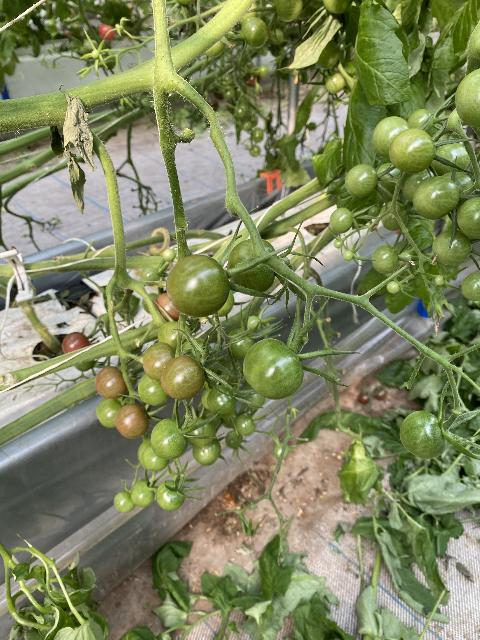l_fully_ripened: (62, 332, 91, 355)
l_green: (165, 254, 229, 317), (243, 339, 305, 400), (228, 238, 277, 295), (399, 411, 447, 459), (389, 128, 436, 174), (412, 176, 459, 220), (371, 116, 410, 157), (432, 228, 472, 267), (429, 138, 470, 176), (150, 419, 188, 460), (456, 68, 480, 128), (440, 172, 475, 207), (400, 168, 434, 203), (137, 436, 170, 471), (157, 321, 193, 352), (345, 164, 378, 197), (138, 372, 169, 406), (456, 196, 480, 239), (180, 338, 212, 370), (184, 417, 217, 447), (155, 479, 186, 510), (207, 386, 237, 418), (225, 329, 255, 360), (193, 435, 222, 466), (379, 201, 408, 231), (241, 17, 269, 48), (371, 245, 399, 275), (96, 399, 124, 428), (130, 479, 155, 507), (328, 207, 353, 234), (408, 109, 434, 134), (460, 271, 480, 301), (324, 71, 346, 93), (113, 491, 135, 512), (234, 416, 255, 435), (140, 267, 161, 285), (161, 248, 176, 262), (386, 280, 401, 293), (343, 250, 353, 261), (434, 275, 444, 286), (334, 239, 343, 249)
l_half_ripened: (161, 356, 205, 400), (142, 341, 182, 382), (115, 403, 150, 439), (95, 366, 128, 399), (155, 294, 180, 323)
